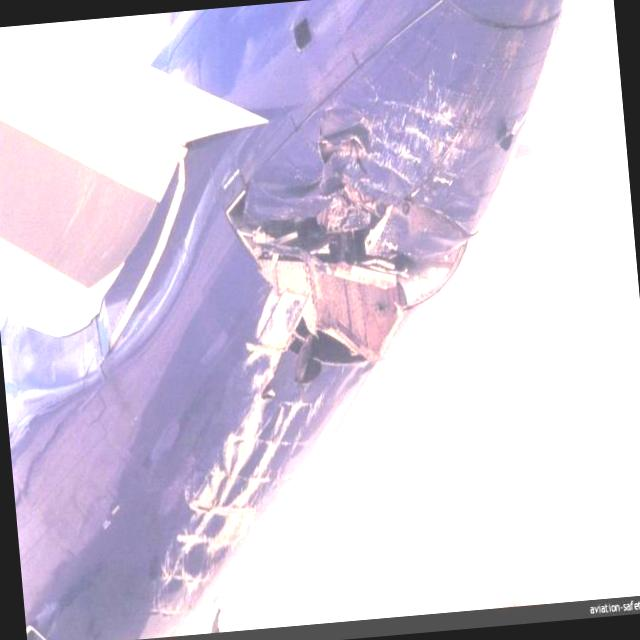crack: (221, 168, 417, 286)
